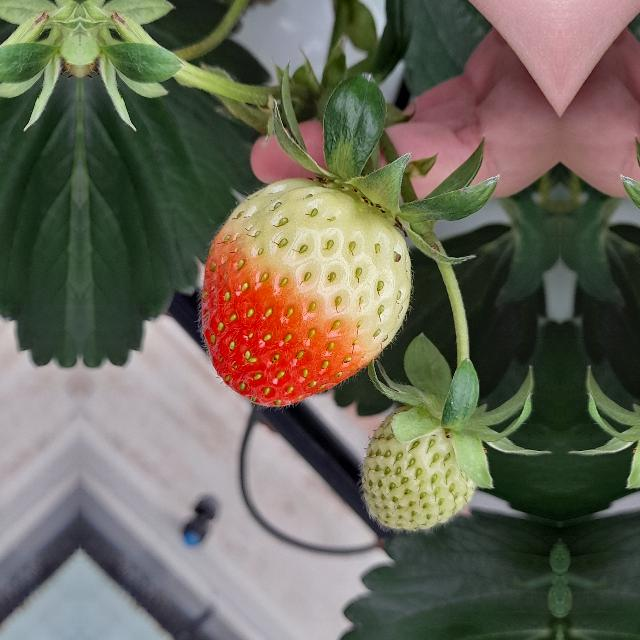Health_25: (353, 404, 477, 536)
Health_75: (201, 178, 411, 406)
